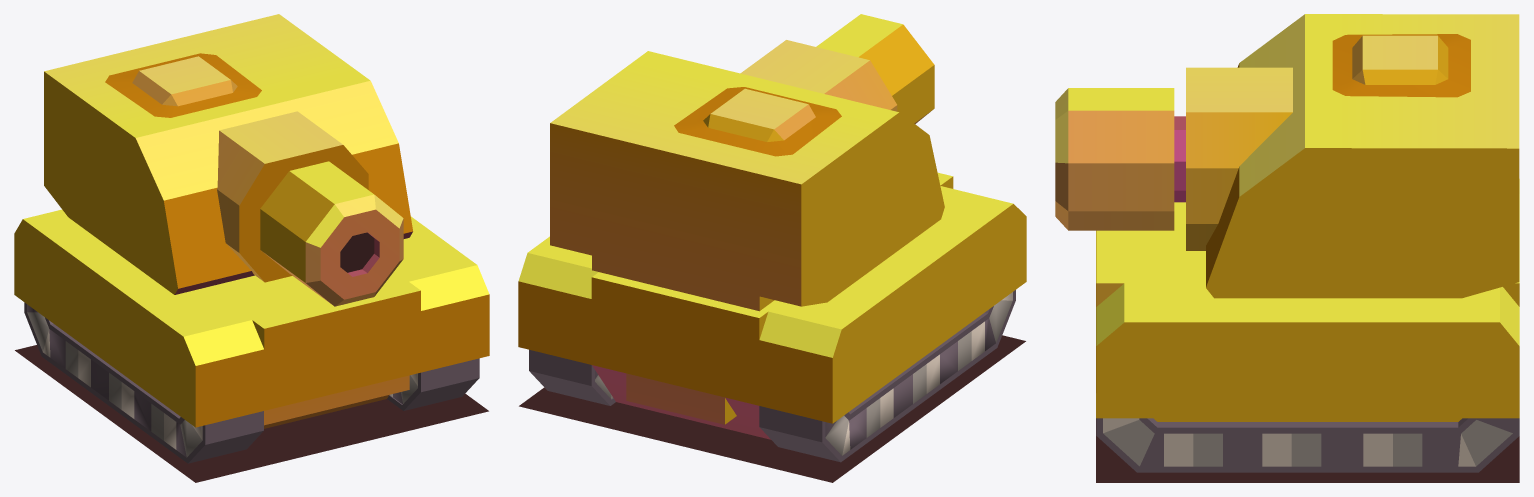
Rendered from TankMesh.YellowComet.glb.
3 renders of one model, left to right at view 1: azimuth 30°, elevation 25°; view 2: azimuth 150°, elevation 25°; view 3: azimuth 270°, elevation 25°, orthographic. The views are drawn at different scales.
Parts seen in each view (by area): view 1: TankMesh.YellowComet; view 2: TankMesh.YellowComet; view 3: TankMesh.YellowComet.
Part boxes in pixels (box(x1,y1,x2,y2)): TankMesh.YellowComet: box(14, 14, 489, 482); TankMesh.YellowComet: box(518, 14, 1026, 482); TankMesh.YellowComet: box(1055, 14, 1519, 482).
Bounding box in the file's own units: 1.5 × 1.38 × 1.76.
Materials: 1 (1 with a texture image).
